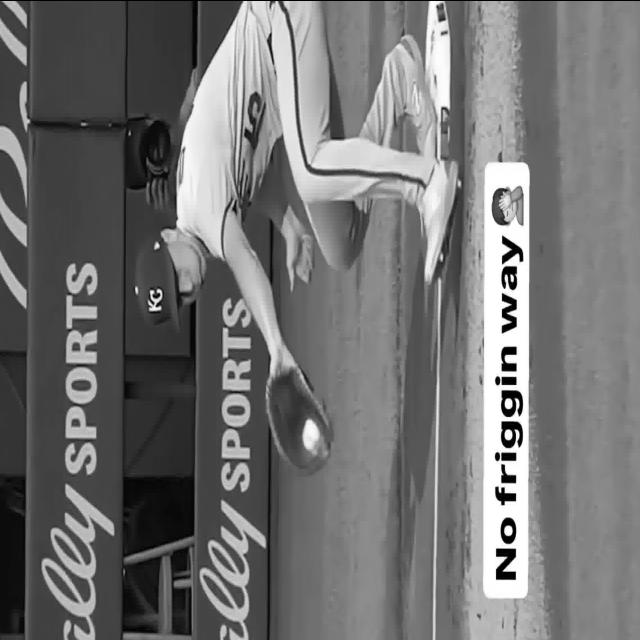base: (425, 0, 451, 158)
baseball: (302, 418, 320, 451)
baseball_glove: (265, 367, 332, 473)
shoe: (418, 158, 459, 282), (396, 33, 436, 158)
